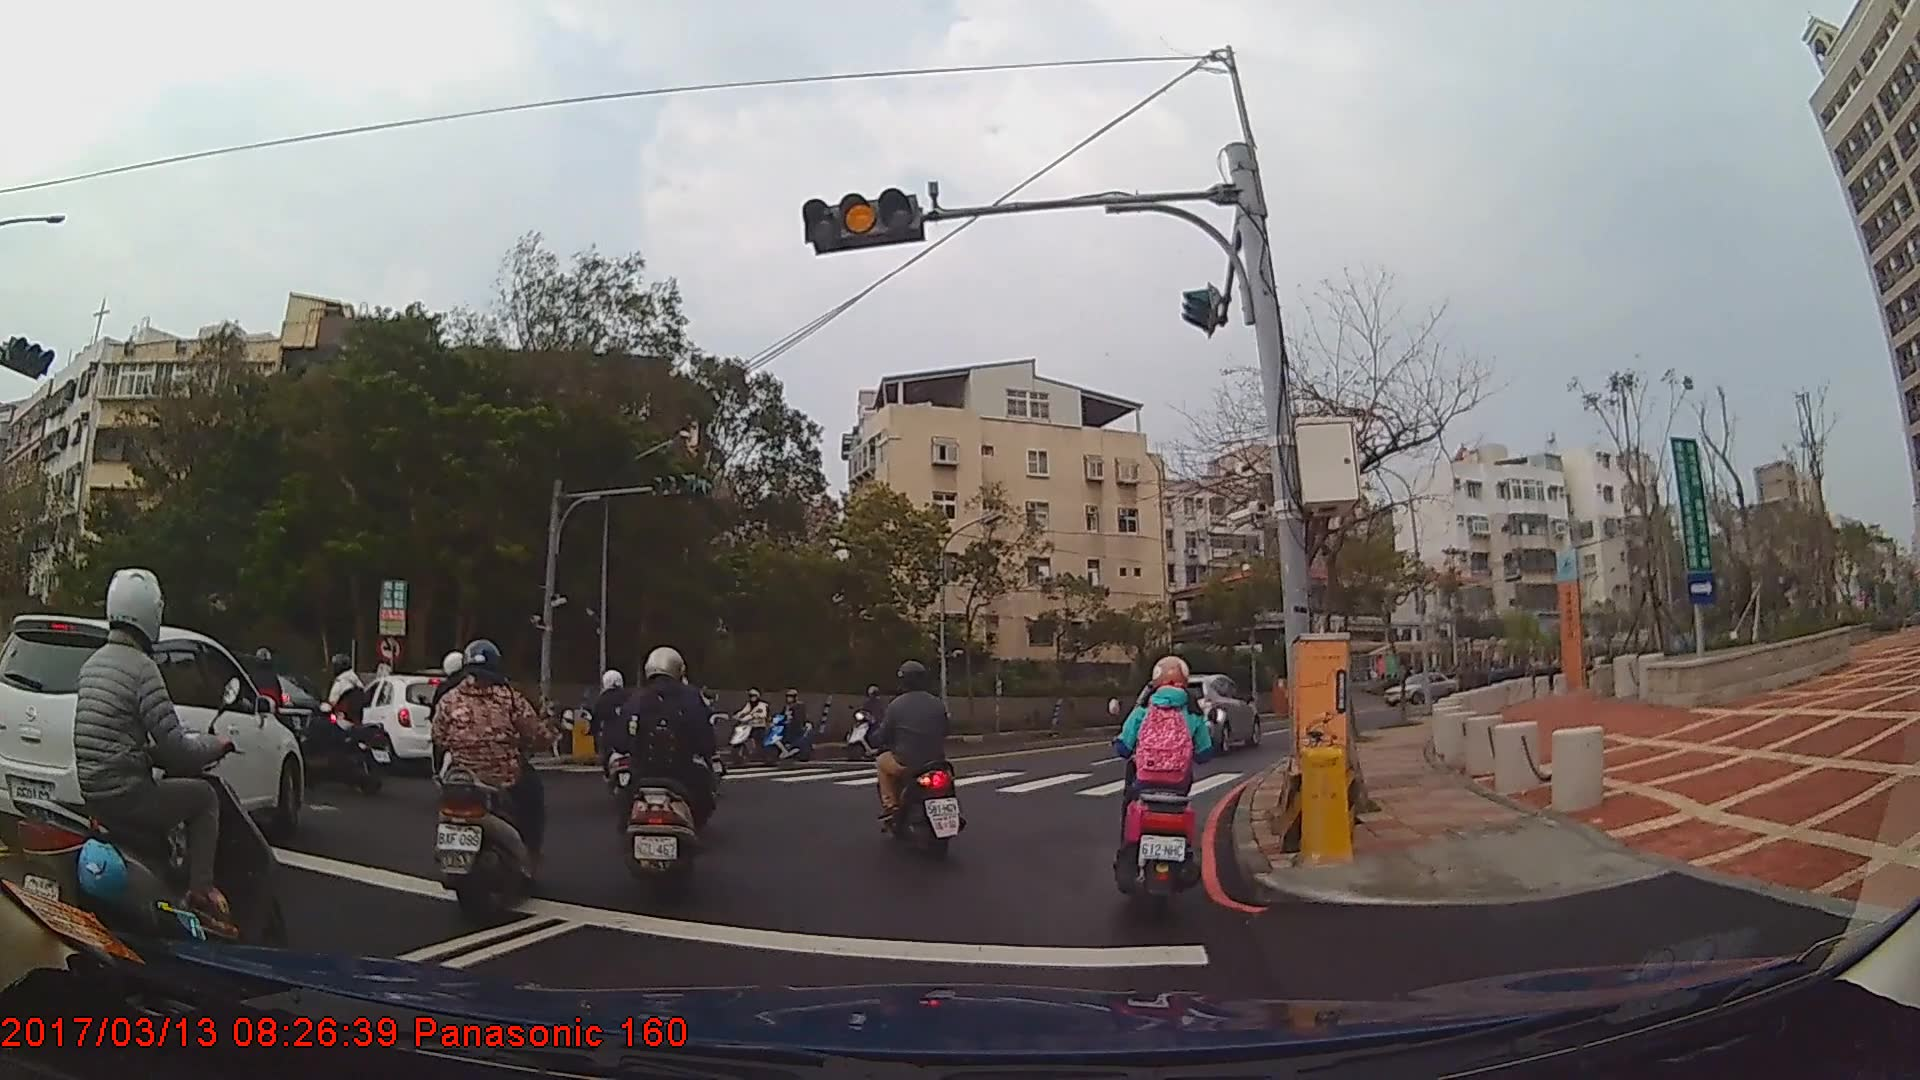rider: (12, 568, 285, 998), (430, 640, 552, 922), (613, 646, 721, 901), (1120, 654, 1223, 914), (869, 656, 962, 858), (575, 668, 655, 813), (305, 653, 374, 790), (226, 646, 291, 781), (844, 689, 898, 767), (767, 688, 815, 765), (734, 685, 775, 763)
vehicle: (0, 613, 304, 860), (333, 673, 468, 771), (1136, 675, 1261, 758), (1383, 669, 1453, 706)
